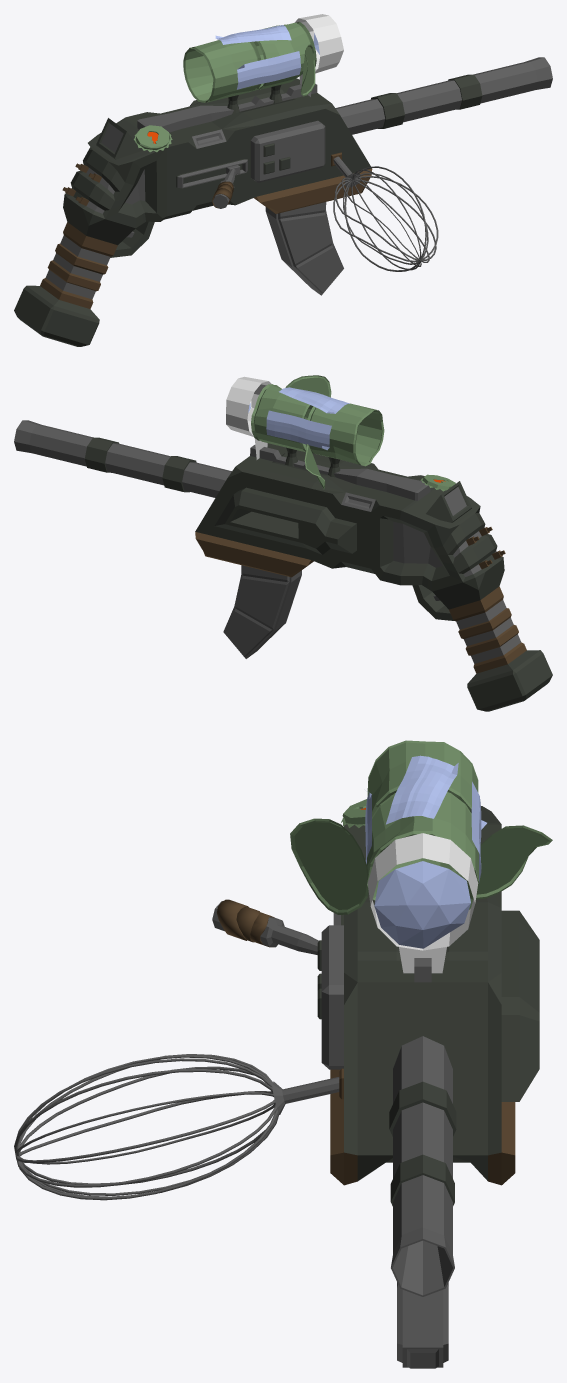
Rendered from kitchenGun.fbx.
3 renders of one model, top to bottom at view 1: azimuth 30°, elevation 25°; view 2: azimuth 150°, elevation 25°; view 3: azimuth 270°, elevation 25°, orthographic. The views are drawn at different scales.
Visible parts, largest first — view 1: Gun1; view 2: Gun1; view 3: Gun1.
Boxes of the visible parts, x1,y1,x2,y2 form: Gun1: (14,14,552,346); Gun1: (14,375,552,711); Gun1: (14,740,552,1368).
Bounding box in the file's own units: 133 × 67.53 × 62.83.
